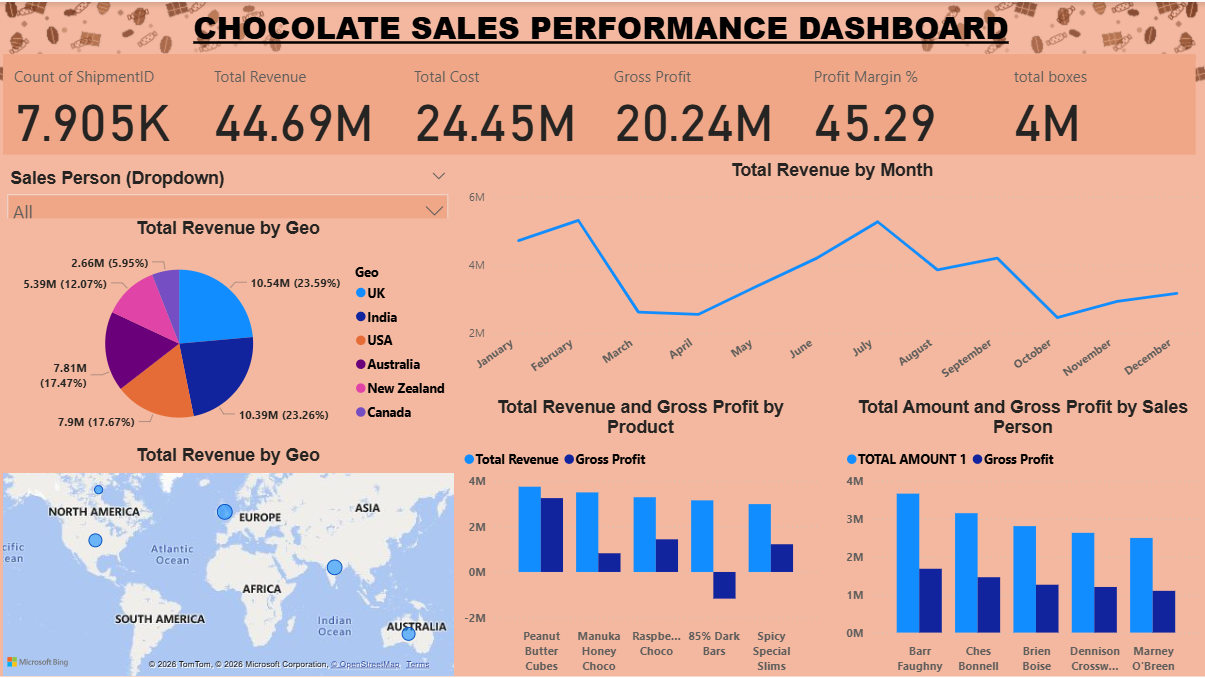

Layout of this report page (visuals, bound fields, positions):
{"tool":"powerbi","page":{"name":"page 01 ","canvas":[1280,720],"ordinal":0},"visuals":[{"type":"textbox","box":[0,0,1278.9,68.4],"z":0},{"type":"lineChart","fields":{"Category":["calendar.cal_date.Variation.Date Hierarchy.Year","calendar.cal_date.Variation.Date Hierarchy.Quarter","calendar.cal_date.Variation.Date Hierarchy.Month","calendar.cal_date.Variation.Date Hierarchy.Day"],"Y":["calendar.Total Revenue"]},"box":[487.6,168.2,791.8,251.3],"z":1000},{"type":"cardVisual","fields":{"Data":["CountNonNull(shipments.ShipmentID)","calendar.Total Revenue","calendar.Total Cost","calendar.Gross Profit","calendar.Profit Margin %","calendar.total boxes"]},"box":[0,51,1279.4,117.2],"z":2000},{"type":"pieChart","fields":{"Category":["locations.Geo"],"Y":["calendar.Total Revenue"]},"box":[0,230.6,487.6,240],"z":3000},{"type":"clusteredColumnChart","title":"Total Revenue and Gross Profit by Product","fields":{"Y":["calendar.Total Revenue","calendar.Gross Profit"],"Category":["products.Product"]},"box":[487.6,419.5,385.5,300.5],"z":4000},{"type":"clusteredColumnChart","title":"Total Amount and Gross Profit by Sales Person","fields":{"Category":["people.Sales_person"],"Y":["calendar.TOTAL AMOUNT 1","calendar.Gross Profit"]},"box":[893.9,419.5,385.5,300.5],"z":5000},{"type":"map","fields":{"Category":["locations.Geo"],"Size":["calendar.Total Revenue"]},"box":[0,470.6,487.6,249.5],"z":6000},{"type":"slicer","fields":{"Values":["people.Sales_person"]},"box":[0,172,487.6,58.6],"z":7000}]}

Visuals, with their boxes in screenshot pixels (x1, y1, x2, y2), scaled from the page's 1280x720 canvas onto the 1205x678 screenshot:
textbox: detection(0, 0, 1204, 64)
lineChart - calendar.cal_date.Variation.Date Hierarchy.Year x calendar.cal_date.Variation.Date Hierarchy.Quarter: detection(459, 158, 1204, 395)
cardVisual - CountNonNull(shipments.ShipmentID) x calendar.Total Revenue: detection(0, 48, 1204, 158)
pieChart - locations.Geo x calendar.Total Revenue: detection(0, 217, 459, 443)
"Total Revenue and Gross Profit by Product" clusteredColumnChart: detection(459, 395, 822, 677)
"Total Amount and Gross Profit by Sales Person" clusteredColumnChart: detection(842, 395, 1204, 677)
map - locations.Geo x calendar.Total Revenue: detection(0, 443, 459, 677)
slicer - people.Sales_person: detection(0, 162, 459, 217)
